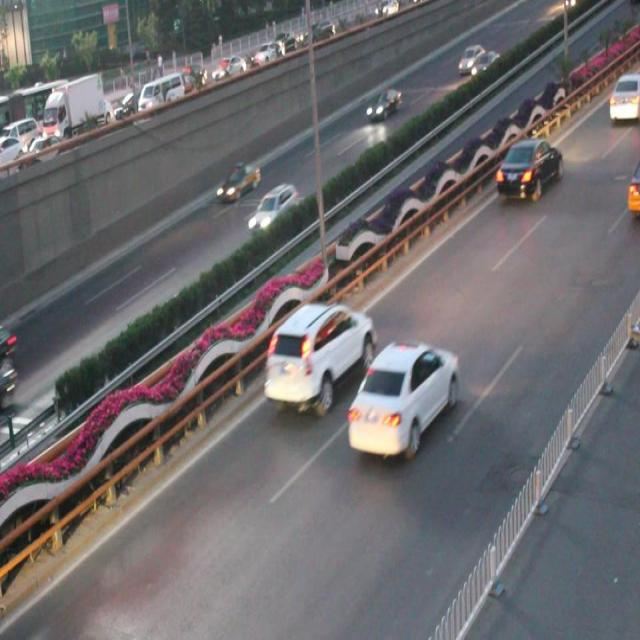car: (346, 340, 460, 458), (263, 304, 375, 412), (494, 140, 561, 201), (247, 184, 297, 231), (215, 164, 260, 202), (362, 88, 401, 124), (624, 157, 640, 218)
